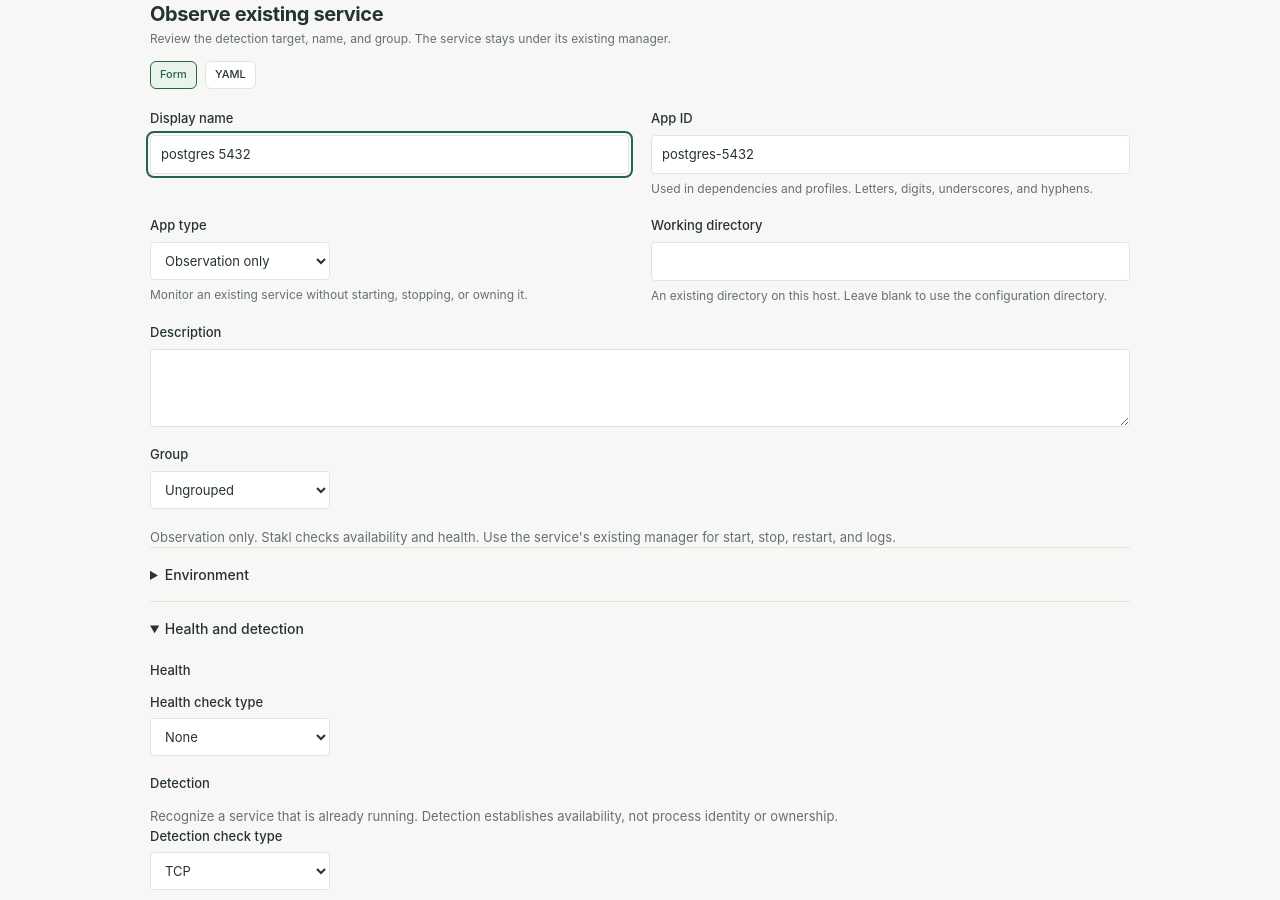
Test case: reviews a listener as observation-only and saves checks and a group without launch commands
Check: the field labelled "Display name" holds "postgres 5432", box [150,134,629,174]
Check: the dropdown labelled "App type" shows "Observation only", box [150,242,330,280]
Select "Create group..." in the dropdown labelled "Group" at x=240, y=490, box [150,470,330,508]
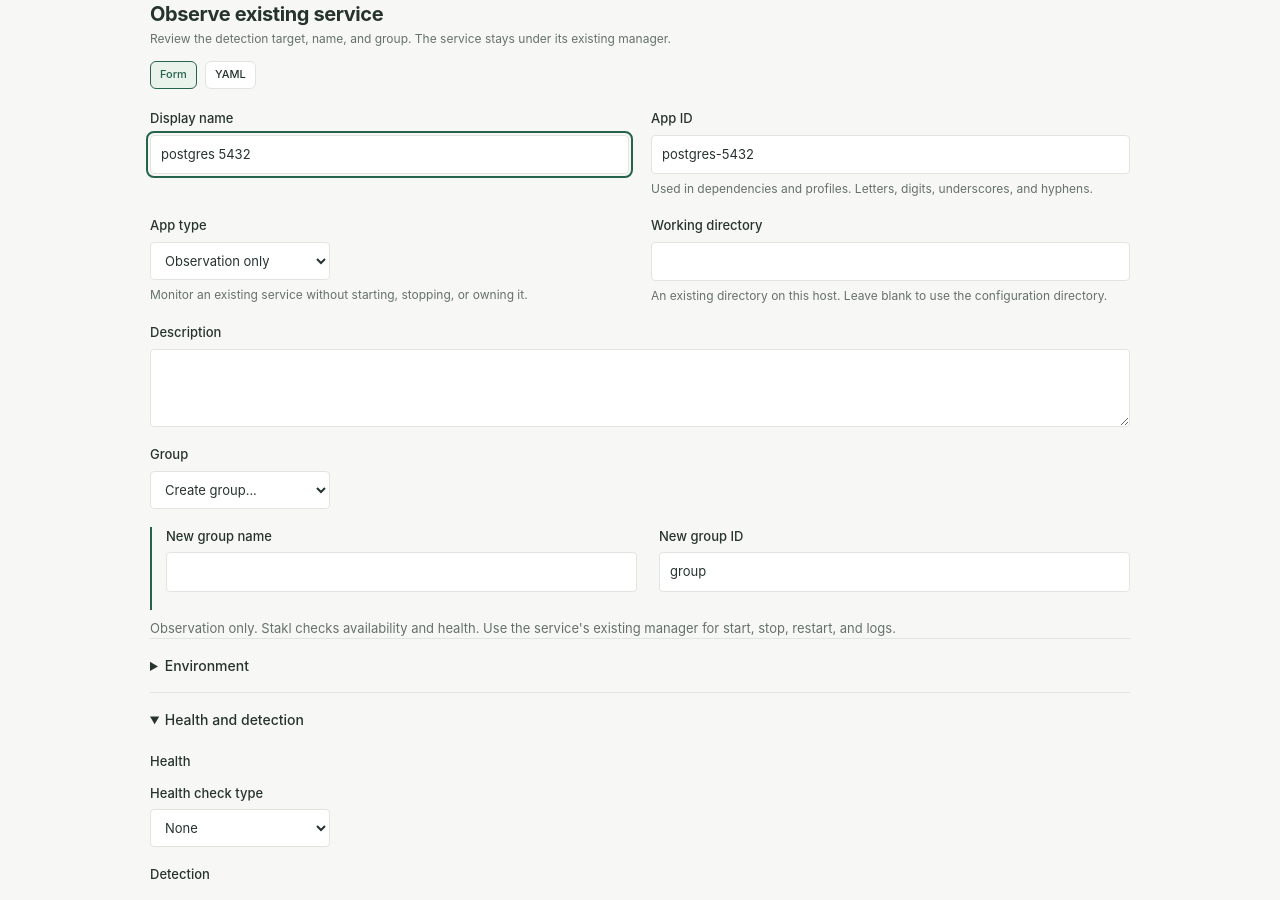
Type "Existing services" into the field labelled "New group name" at x=402, y=572, box [166,552,637,592]
(page scrolled)
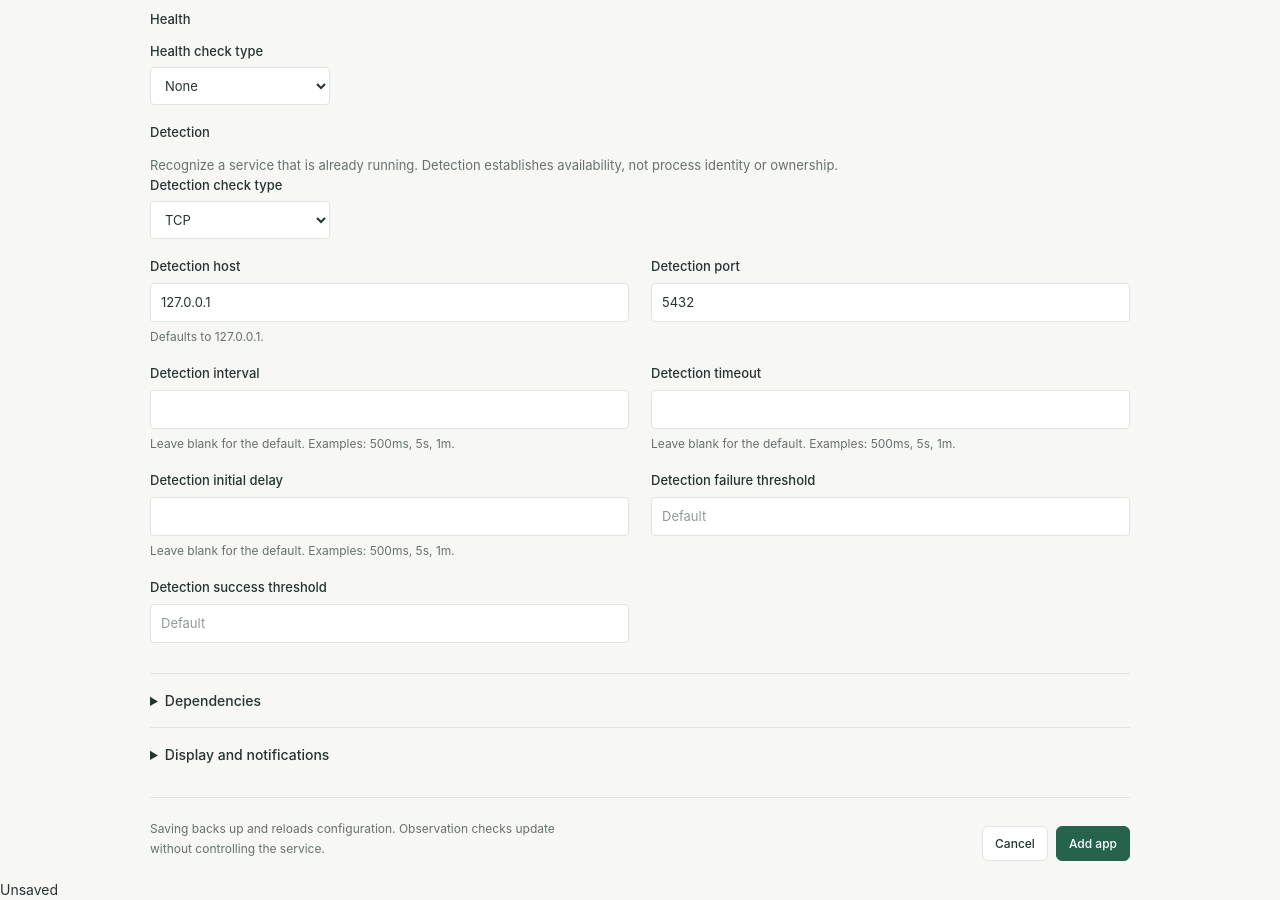
Click the button "Add app" at x=1093, y=844, box [1056,826,1130,861]
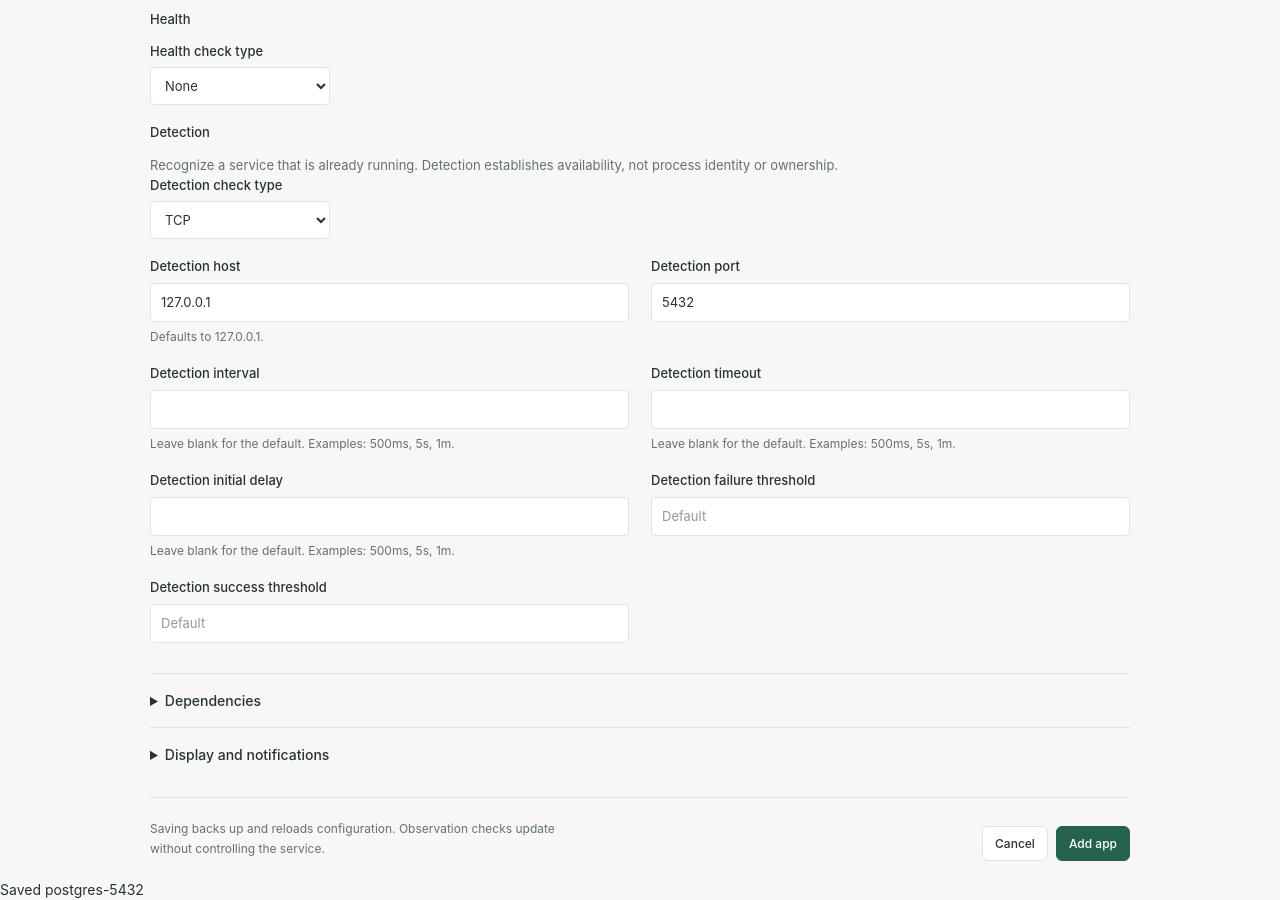
Check: the text "Saved postgres-5432" is shown, box [0,881,144,898]
